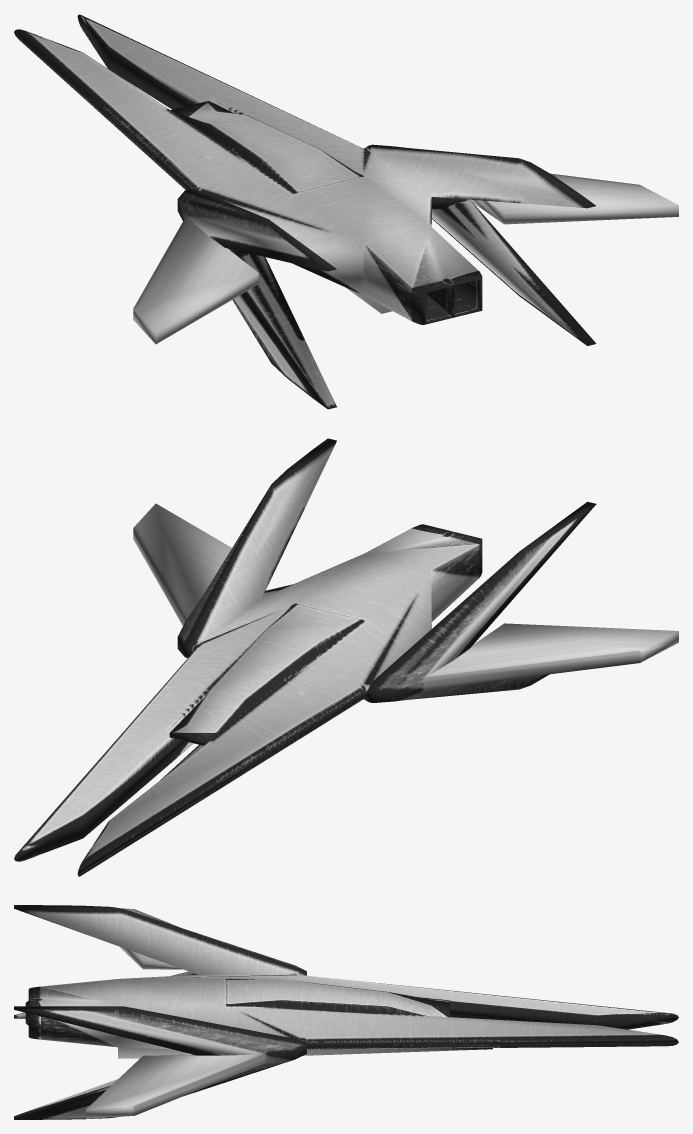
Rendered from spaceship2.fbx.
3 views of the same model, one above another, from view 1: azimuth 30°, elevation 25°; view 2: azimuth 150°, elevation 25°; view 3: azimuth 270°, elevation 25° (orthographic). The views are drawn at different scales.
Parts seen in each view (by area): view 1: MESH INIMIGO; view 2: MESH INIMIGO; view 3: MESH INIMIGO.
Boxes of the visible parts, <box> form: MESH INIMIGO: <box>14,14,678,409</box>; MESH INIMIGO: <box>14,438,678,876</box>; MESH INIMIGO: <box>14,905,678,1119</box>.
Size of the model in its own units: 1731 by 436 by 2387.
1 material, 1 textured.
